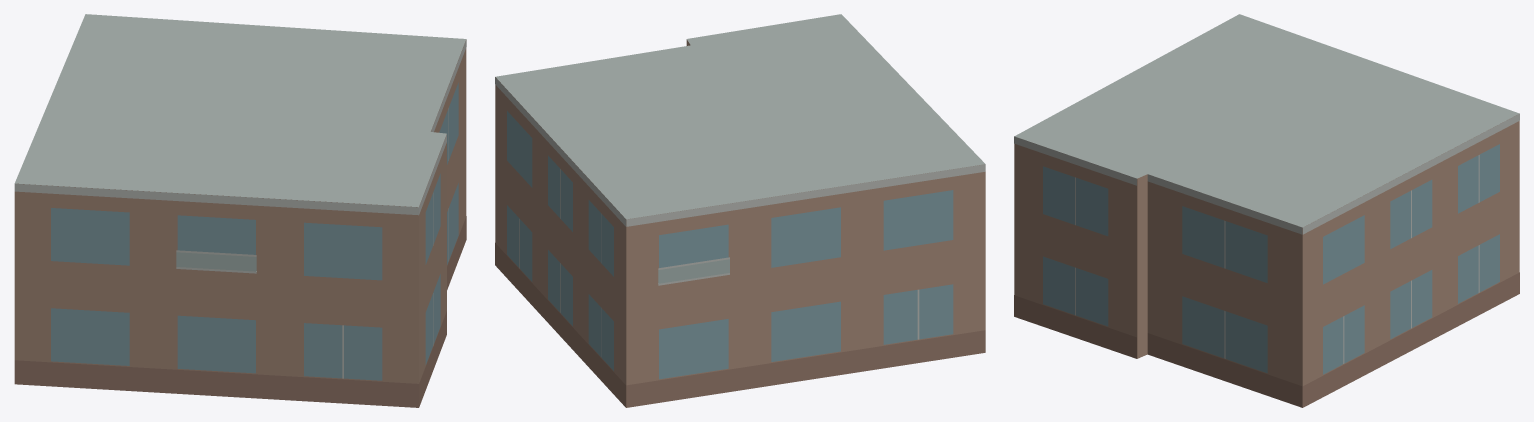
File: survey-upis-32850866.glb
The picture shows the model from 3 angles, left to right: view 1: azimuth 30°, elevation 25°; view 2: azimuth 150°, elevation 25°; view 3: azimuth 270°, elevation 25°; orthographic projection. The views are drawn at different scales.
Parts seen in each view (by area): view 1: survey-upis-32850866.tmp; view 2: survey-upis-32850866.tmp; view 3: survey-upis-32850866.tmp.
Part boxes in pixels (x1,y1,x2,y2): survey-upis-32850866.tmp: (14, 14, 466, 407); survey-upis-32850866.tmp: (495, 14, 985, 407); survey-upis-32850866.tmp: (1014, 14, 1519, 407).
Size of the model in its own units: 15.5 by 6.1 by 15.51.
